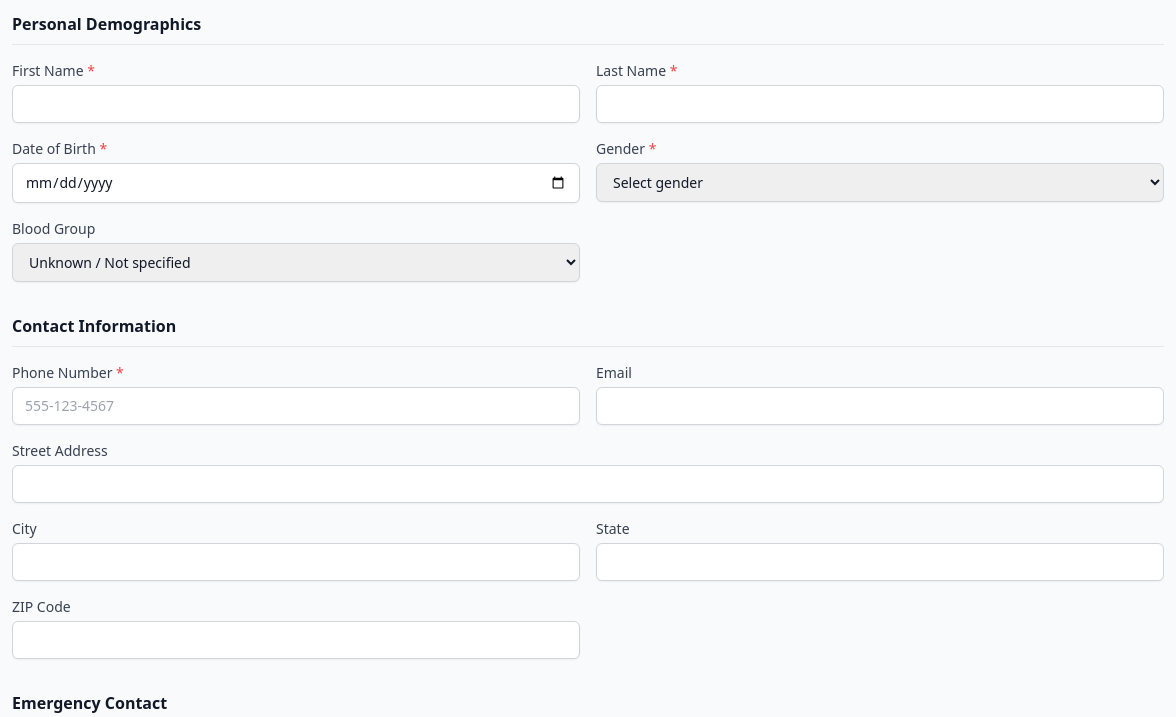
PatientRegistrationForm › shows age when valid DOB entered
The width and height of the screenshot is (1176, 717).
Type "1985-06-15" into the date field labelled "Date of Birth *".
click(296, 183); type("1985-06-15")  # box [12,163,580,203]
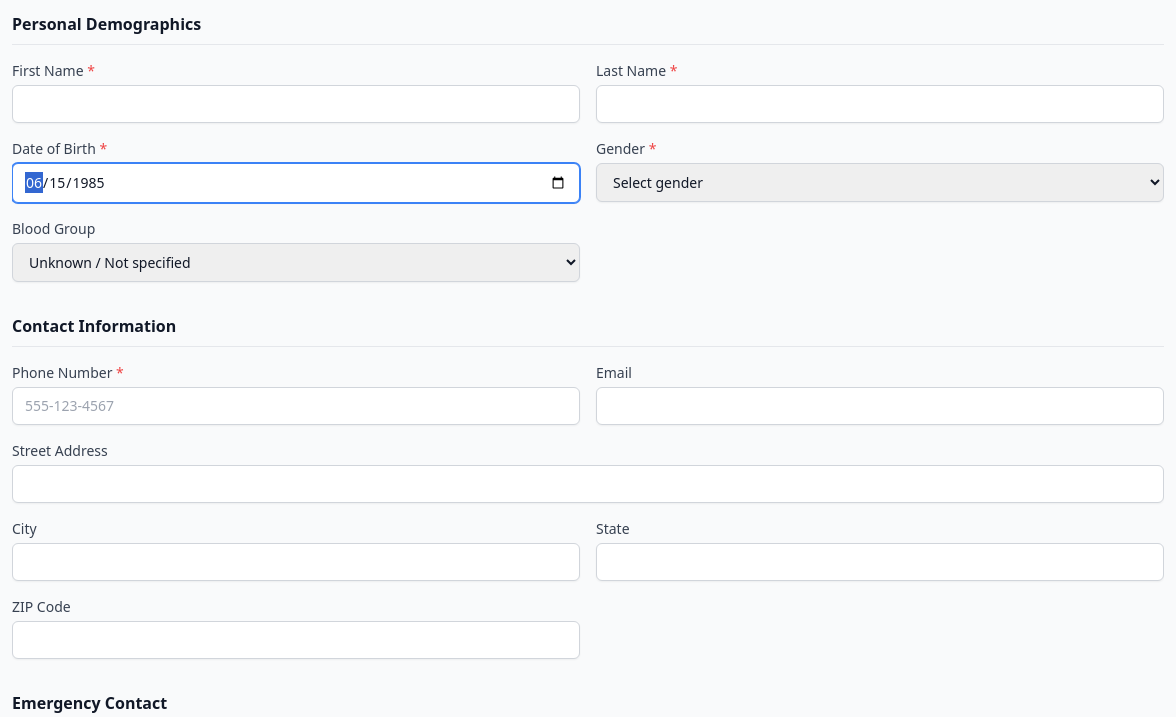
Leave the date field labelled "Date of Birth *", box [12,163,580,203]
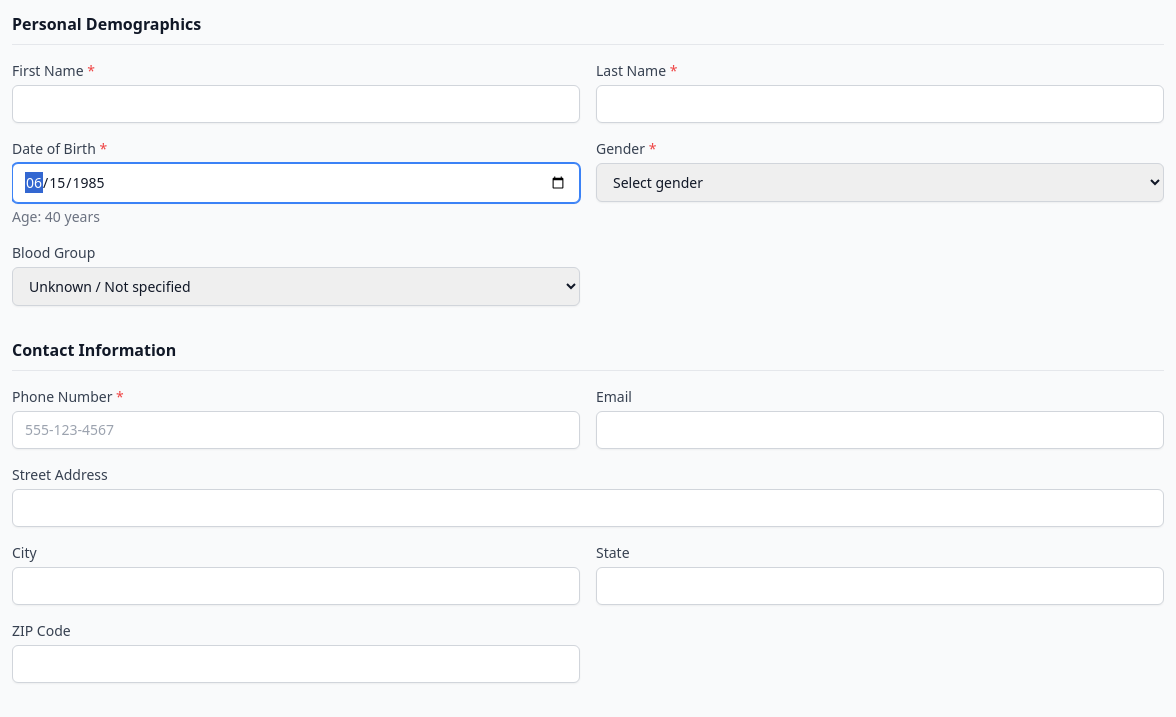
Expected: the text "Age: 40 years" is shown, [12,207,100,226]
